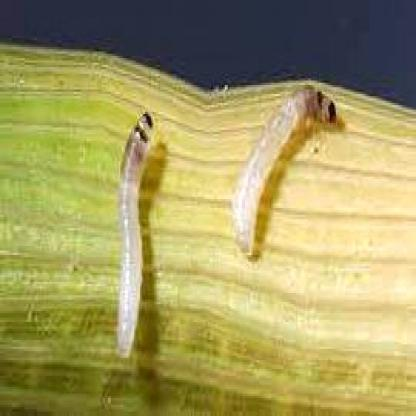whorl-maggot: (230, 84, 340, 261), (114, 110, 156, 364)
